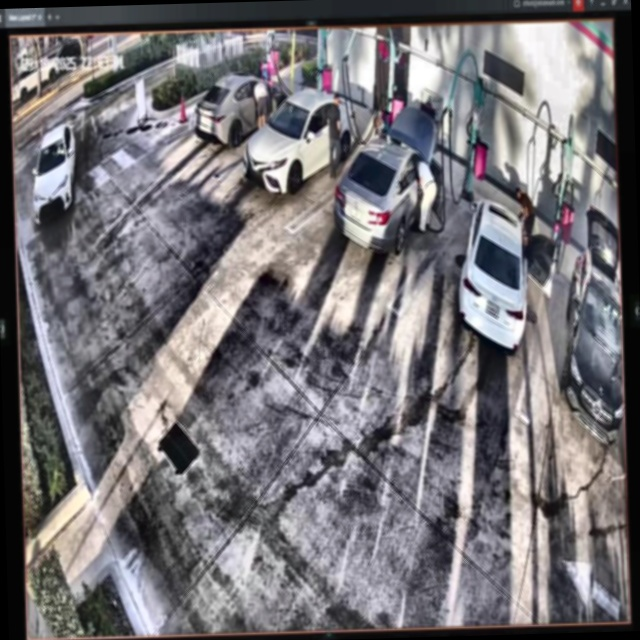Car: (334, 108, 434, 255), (245, 88, 358, 192), (458, 198, 529, 354), (194, 70, 290, 146)
